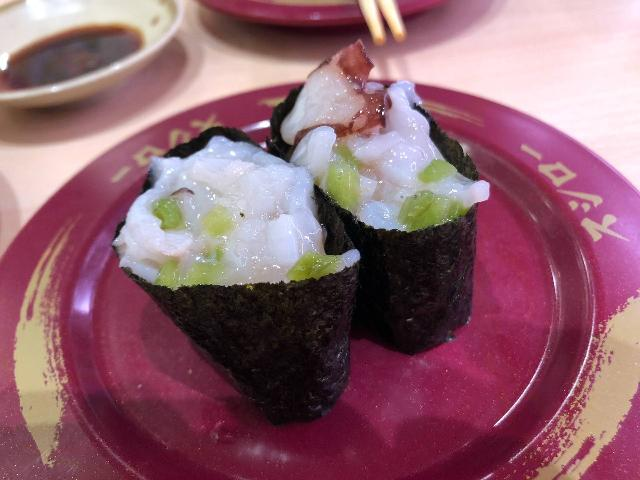janred: (4, 114, 639, 455), (191, 0, 458, 45)
